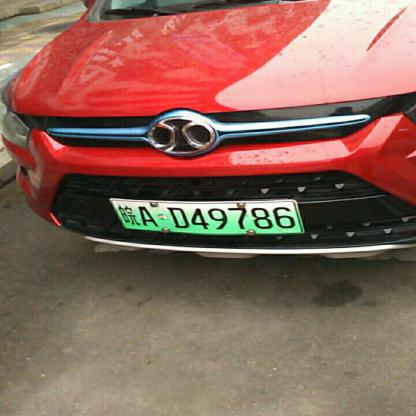lp: (113, 200, 300, 231)
